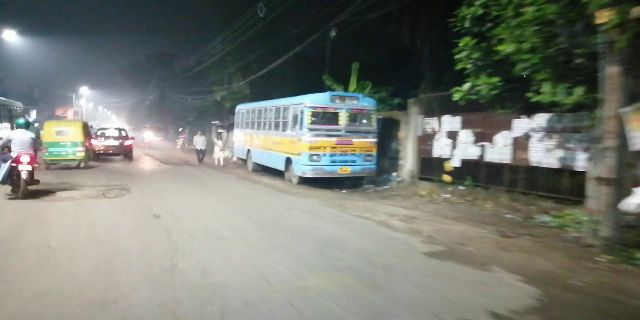Autorickshaw: (40, 119, 89, 171)
Bus: (236, 94, 389, 192)
Motorbike: (6, 116, 37, 202)
